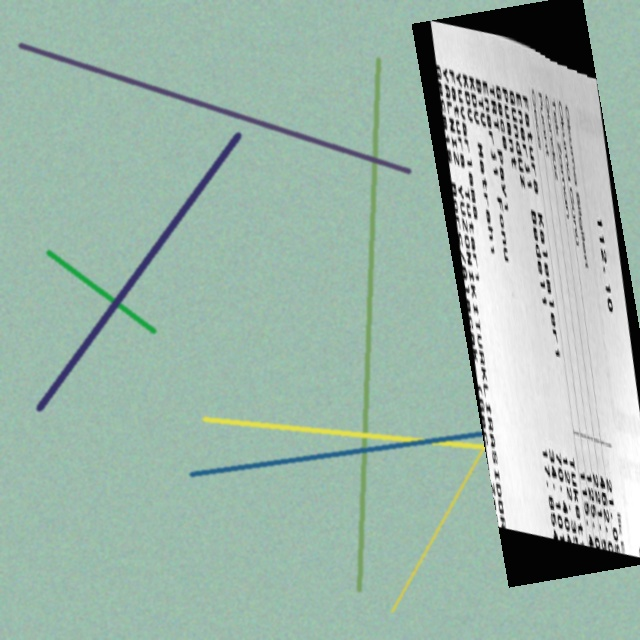electricity-bill: (412, 0, 640, 588)
